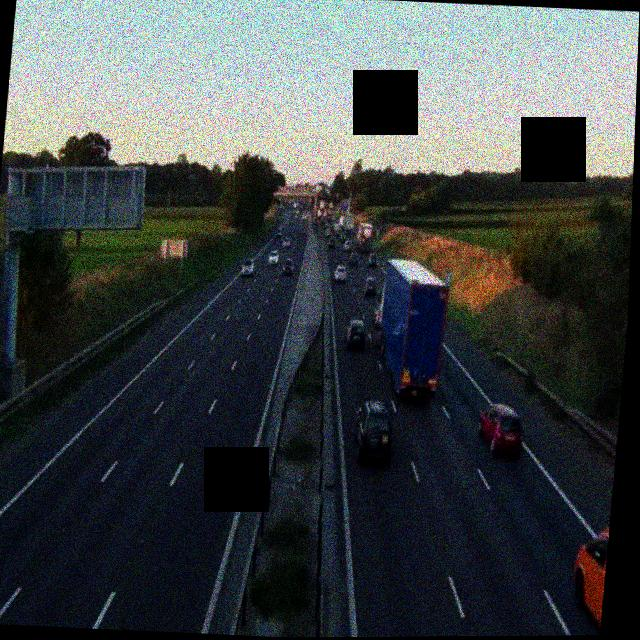car: (568, 526, 609, 636), (352, 400, 396, 464), (476, 403, 526, 456), (345, 319, 368, 350), (362, 274, 377, 297), (334, 262, 348, 283), (241, 257, 255, 277), (282, 256, 295, 276), (268, 248, 282, 266), (351, 252, 362, 267), (367, 253, 378, 267), (328, 237, 337, 250), (325, 228, 334, 241), (276, 228, 285, 240)
truck: (371, 257, 451, 401), (355, 219, 375, 255)
